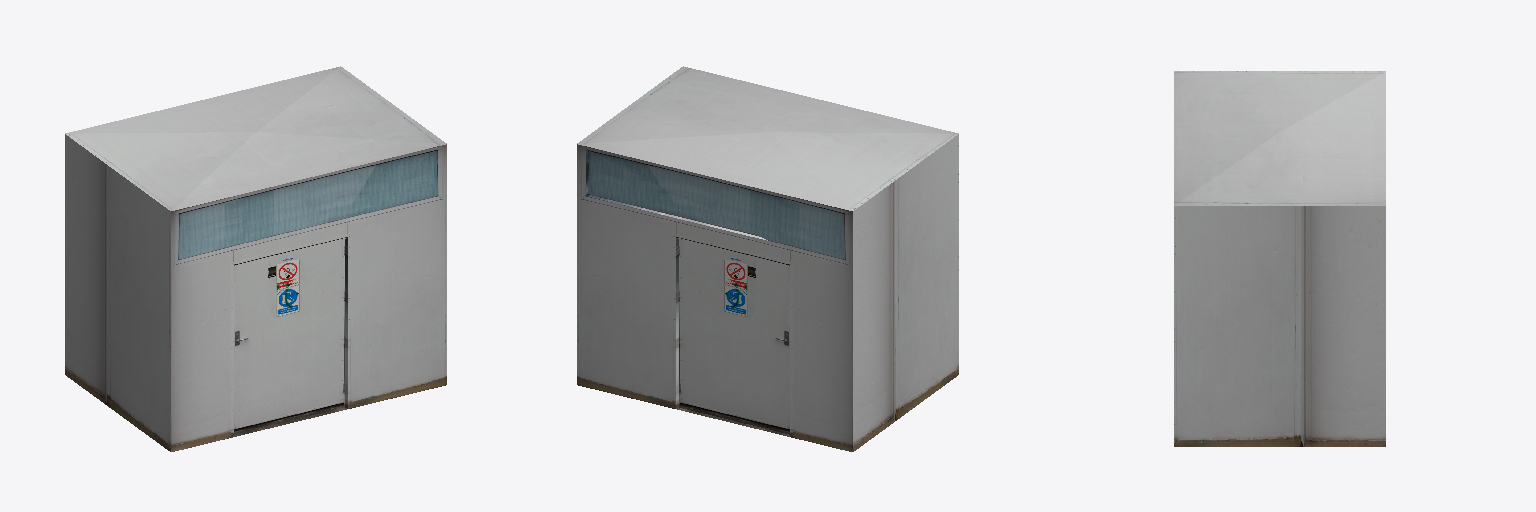
3 renders of one model, left to right at view 1: azimuth 30°, elevation 25°; view 2: azimuth 150°, elevation 25°; view 3: azimuth 270°, elevation 25°, orthographic.
Visible parts, largest first — view 1: elevatorHouse_2; view 2: elevatorHouse_2; view 3: elevatorHouse_2.
Boxes of the visible parts, x1,y1,x2,y2 form: elevatorHouse_2: [65, 66, 446, 451]; elevatorHouse_2: [577, 66, 958, 451]; elevatorHouse_2: [1174, 71, 1385, 446].
Bounding box in the file's own units: 3.2 × 2.74 × 2.13.
Materials: 1 (1 with a texture image).